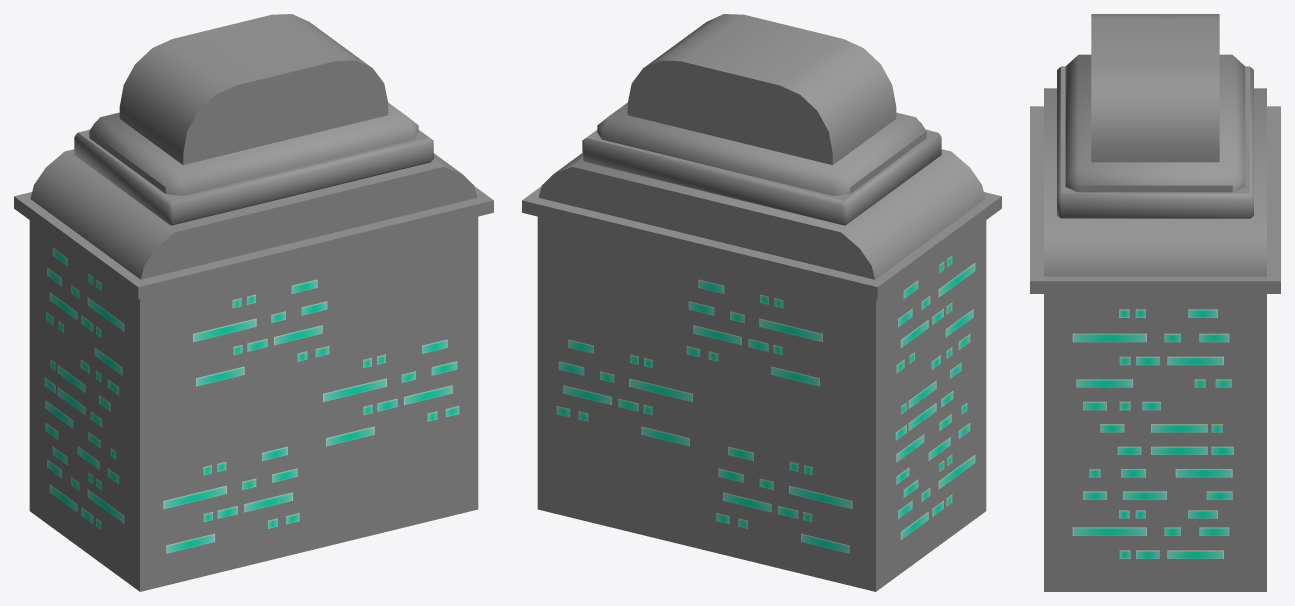
The model's file is Building_033.fbx.
3 views of the same model, side by side, from view 1: azimuth 30°, elevation 25°; view 2: azimuth 150°, elevation 25°; view 3: azimuth 270°, elevation 25° (orthographic).
Visible parts, largest first — view 1: Building_033; view 2: Building_033; view 3: Building_033.
Part boxes in pixels (x1,y1,x2,y2): Building_033: (14, 14, 493, 591); Building_033: (522, 14, 1001, 591); Building_033: (1030, 14, 1280, 591).
Size of the model in its own units: 65.89 by 81.45 by 39.85.
2 materials, 1 textured.
